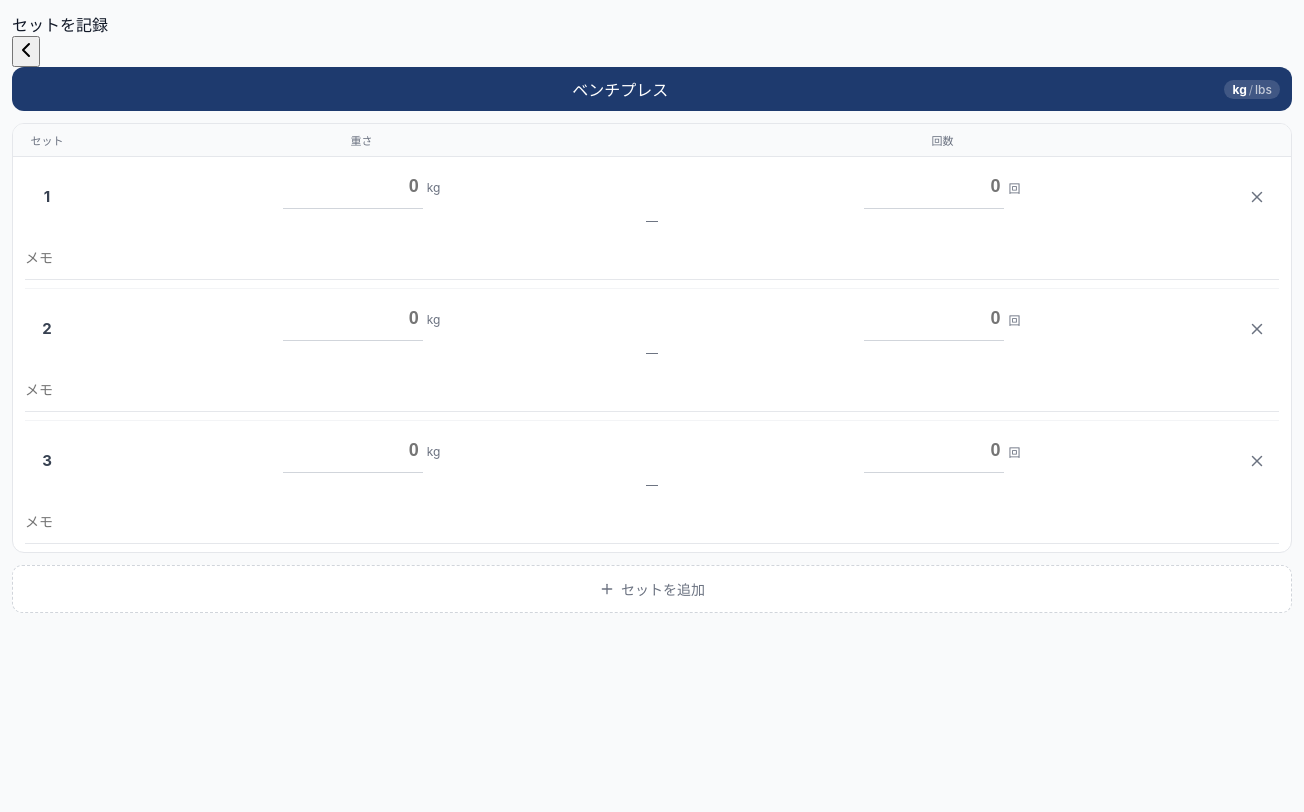
Scenario: TrainingEntryPage - セット操作 › 「セットを追加」でセット数が増える
expect the number of buttons named "セット目を削除" is 3: met, box [1235,174,1279,218]; [1235,306,1279,350]; [1235,438,1279,482]
Click the button "セットを追加": click(652, 589) [12,565,1292,613]
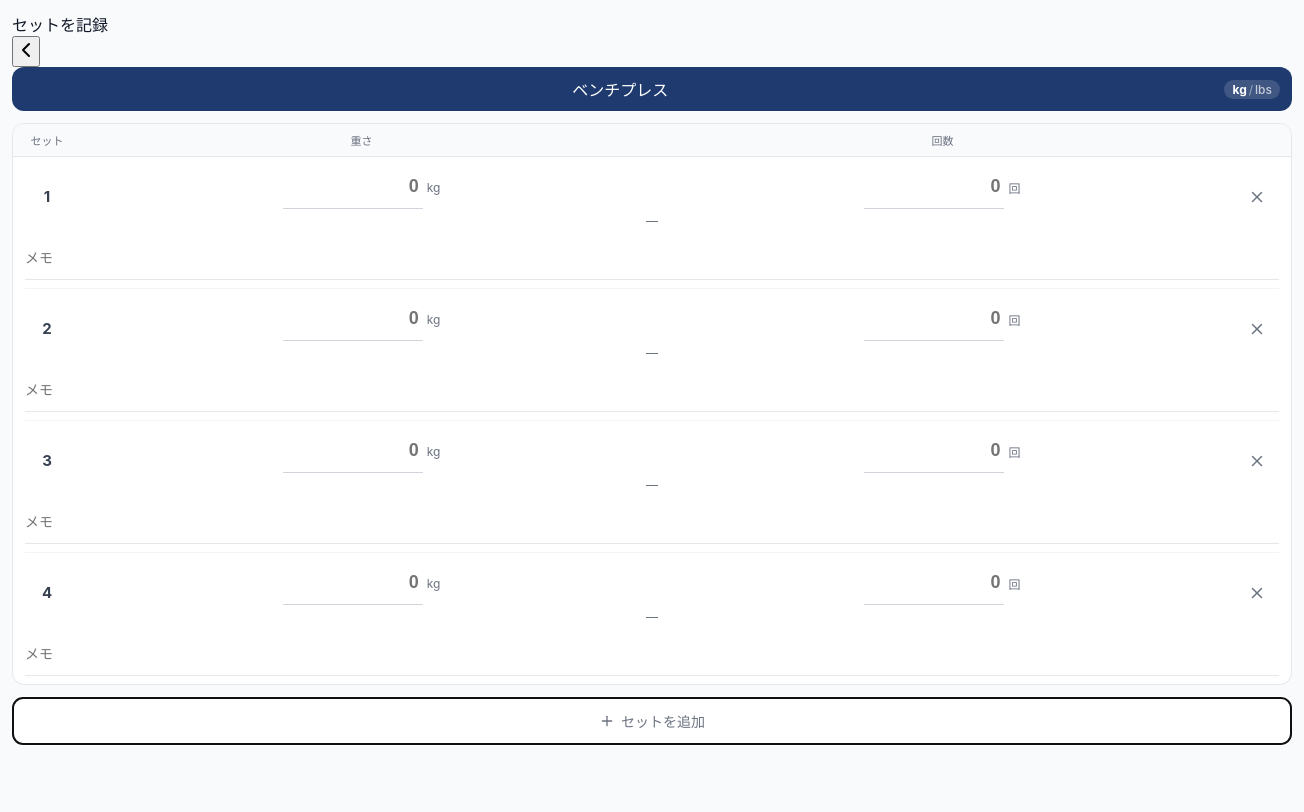
expect the number of buttons named "セット目を削除" is 4: met, box [1235,174,1279,218]; [1235,306,1279,350]; [1235,438,1279,482]; [1235,570,1279,614]
